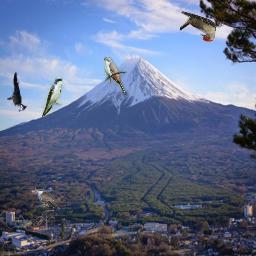Cuckoo: (104, 57, 127, 97), (34, 189, 59, 207)
Swallow: (42, 77, 63, 117)
Woodpecker: (180, 10, 216, 42), (7, 72, 27, 112)
